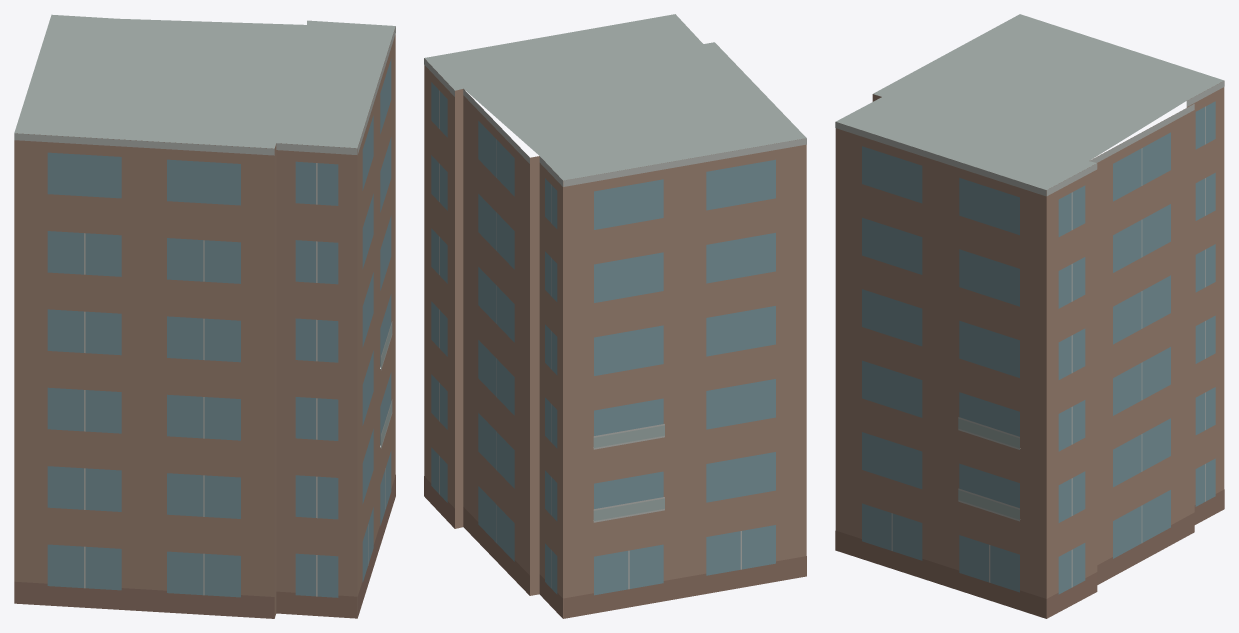
The model's file is survey-upis-32872075.glb.
The picture shows the model from 3 angles, left to right: view 1: azimuth 30°, elevation 25°; view 2: azimuth 150°, elevation 25°; view 3: azimuth 270°, elevation 25°; orthographic projection. The views are drawn at different scales.
Parts seen in each view (by area): view 1: survey-upis-32872075.tmp; view 2: survey-upis-32872075.tmp; view 3: survey-upis-32872075.tmp.
Boxes of the visible parts, x1,y1,x2,y2 form: survey-upis-32872075.tmp: [14, 14, 395, 618]; survey-upis-32872075.tmp: [424, 14, 806, 618]; survey-upis-32872075.tmp: [835, 14, 1224, 618].
Size of the model in its own units: 14.55 by 16.5 by 13.57.
